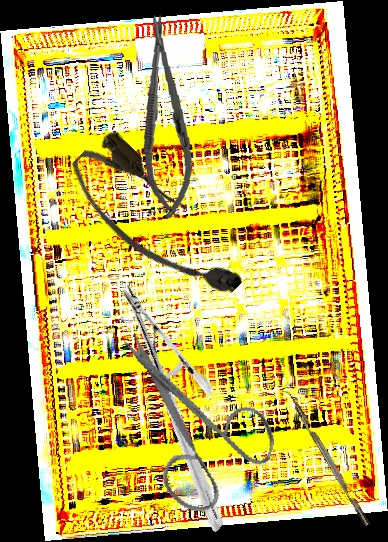Cannula: (59, 125, 253, 323)
Chopper: (277, 385, 371, 531)
Iris Scissors: (84, 329, 293, 527)
Needle Holder: (41, 282, 304, 534), (132, 12, 199, 221)
